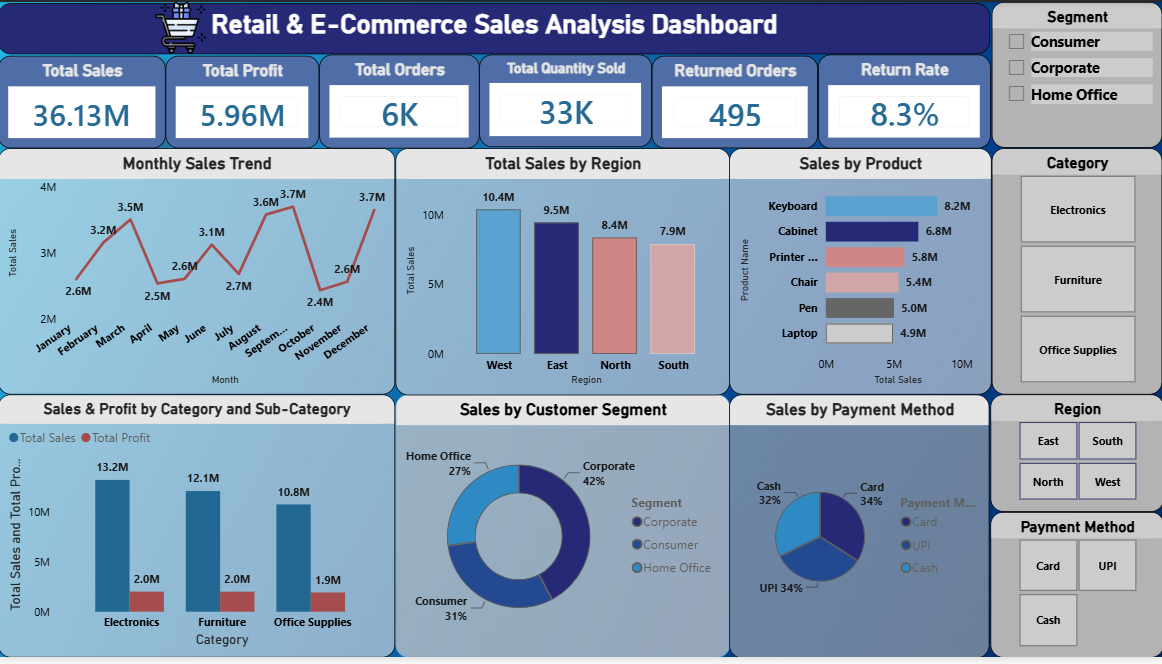

Layout of this report page (visuals, bound fields, positions):
{"tool":"powerbi","page":{"name":"Dashboard","canvas":[1280,720],"ordinal":0},"visuals":[{"type":"cardVisual","title":"Total Sales","fields":{"Data":["Cleaned_Orders.Total Sales"]},"box":[0,58.6,184.3,101.4],"z":0},{"type":"cardVisual","title":"Total Profit","fields":{"Data":["Cleaned_Orders.Total Profit"]},"box":[184.3,58.6,168.6,101.4],"z":1000},{"type":"cardVisual","title":"Total Orders","fields":{"Data":["Cleaned_Orders.Total Orders"]},"box":[352.9,57.1,175.7,102.9],"z":2000},{"type":"cardVisual","title":"Total Quantity Sold","fields":{"Data":["Cleaned_Orders.Total Quantity Sold"]},"box":[528.4,58.2,189.6,101.5],"z":3000},{"type":"cardVisual","title":"Returned Orders","fields":{"Data":["Cleaned_Returns.Returned Orders"]},"box":[717.7,59,182.5,101.5],"z":4000},{"type":"cardVisual","title":"Return Rate","fields":{"Data":["Cleaned_Returns.Return Rate"]},"box":[900.2,57.6,189.4,102.9],"z":5000},{"type":"slicer","title":"Category","fields":{"Values":["Cleaned_Orders.Category"]},"box":[1091.4,160,187.1,270],"z":6000},{"type":"slicer","title":"Region","fields":{"Values":["Cleaned_Orders.Region"]},"box":[1089.4,430.6,190,128.6],"z":7000},{"type":"slicer","title":"Segment","fields":{"Values":["Cleaned_Orders.Segment"]},"box":[1091.1,0,187.2,160],"z":8000},{"type":"slicer","title":"Payment Method","fields":{"Values":["Cleaned_Orders.Payment Method"]},"box":[1090,560,190,160],"z":9000},{"type":"lineChart","title":"Monthly Sales Trend","fields":{"Category":["Cleaned_Orders.Order Date.Variation.Date Hierarchy.Month"],"Y":["Cleaned_Orders.Total Sales"]},"box":[0,160,435.7,270.6],"z":10000},{"type":"clusteredColumnChart","title":"Sales & Profit by Category and Sub-Category","fields":{"Category":["Cleaned_Orders.Category","Cleaned_Orders.Sub-Category"],"Y":["Cleaned_Orders.Total Sales","Cleaned_Orders.Total Profit"]},"box":[0,431.4,435.7,288.6],"z":11000},{"type":"clusteredBarChart","title":"Sales by Product","fields":{"Category":["Cleaned_Orders.Product Name"],"Y":["Cleaned_Orders.Total Sales"]},"box":[803.4,160,287.7,270.6],"z":12000},{"type":"donutChart","title":"Sales by Customer Segment","fields":{"Category":["Cleaned_Orders.Segment"],"Y":["Cleaned_Orders.Total Sales"]},"box":[435.7,431.4,367.1,288.6],"z":13000},{"type":"pieChart","title":"Sales by Payment Method","fields":{"Category":["Cleaned_Orders.Payment Method"],"Y":["Cleaned_Orders.Total Sales"]},"box":[803.4,430.6,286,289.4],"z":14000},{"type":"clusteredColumnChart","fields":{"Category":["Cleaned_Orders.Region"],"Y":["Cleaned_Orders.Total Sales"]},"box":[435.7,160,367.1,271.4],"z":15000},{"type":"textbox","title":"Retail & E-Commerce Sales Analysis Dashboard","box":[0,1.4,1088.6,55.7],"z":16000},{"type":"image","box":[92.9,0,214.3,57.1],"z":17000}]}

Visuals, with their boxes in screenshot pixels (x1, y1, x2, y2), scaled from the page's 1280x720 canvas onto the 1162x664 screenshot:
"Total Sales" cardVisual: [0, 54, 167, 148]
"Total Profit" cardVisual: [167, 54, 320, 148]
"Total Orders" cardVisual: [320, 53, 480, 148]
"Total Quantity Sold" cardVisual: [480, 54, 652, 147]
"Returned Orders" cardVisual: [652, 54, 817, 148]
"Return Rate" cardVisual: [817, 53, 989, 148]
"Category" slicer: [991, 148, 1161, 397]
"Region" slicer: [989, 397, 1161, 516]
"Segment" slicer: [991, 0, 1160, 148]
"Payment Method" slicer: [990, 516, 1161, 663]
"Monthly Sales Trend" lineChart: [0, 148, 396, 397]
"Sales & Profit by Category and Sub-Category" clusteredColumnChart: [0, 398, 396, 663]
"Sales by Product" clusteredBarChart: [729, 148, 991, 397]
"Sales by Customer Segment" donutChart: [396, 398, 729, 663]
"Sales by Payment Method" pieChart: [729, 397, 989, 663]
clusteredColumnChart - Cleaned_Orders.Region x Cleaned_Orders.Total Sales: [396, 148, 729, 398]
"Retail & E-Commerce Sales Analysis Dashboard" textbox: [0, 1, 988, 53]
image: [84, 0, 279, 53]
